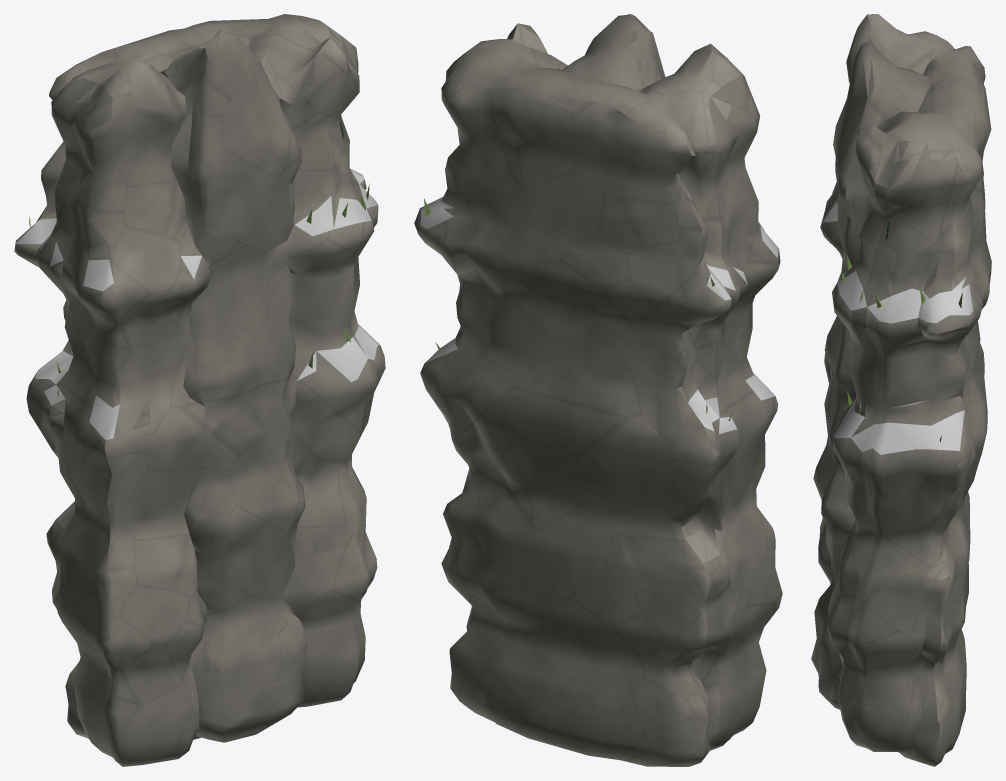
Rendered from Furn_Cliff2_C.fbx.
The picture shows the model from 3 angles, left to right: view 1: azimuth 30°, elevation 25°; view 2: azimuth 150°, elevation 25°; view 3: azimuth 270°, elevation 25°; orthographic projection. The views are drawn at different scales.
Parts seen in each view (by area): view 1: Furn_Cliff2_C; view 2: Furn_Cliff2_C; view 3: Furn_Cliff2_C.
Boxes of the visible parts, x1,y1,x2,y2 form: Furn_Cliff2_C: (14,14,385,766); Furn_Cliff2_C: (414,14,782,766); Furn_Cliff2_C: (811,14,991,766).
Bounding box in the file's own units: 10 × 20.88 × 5.
